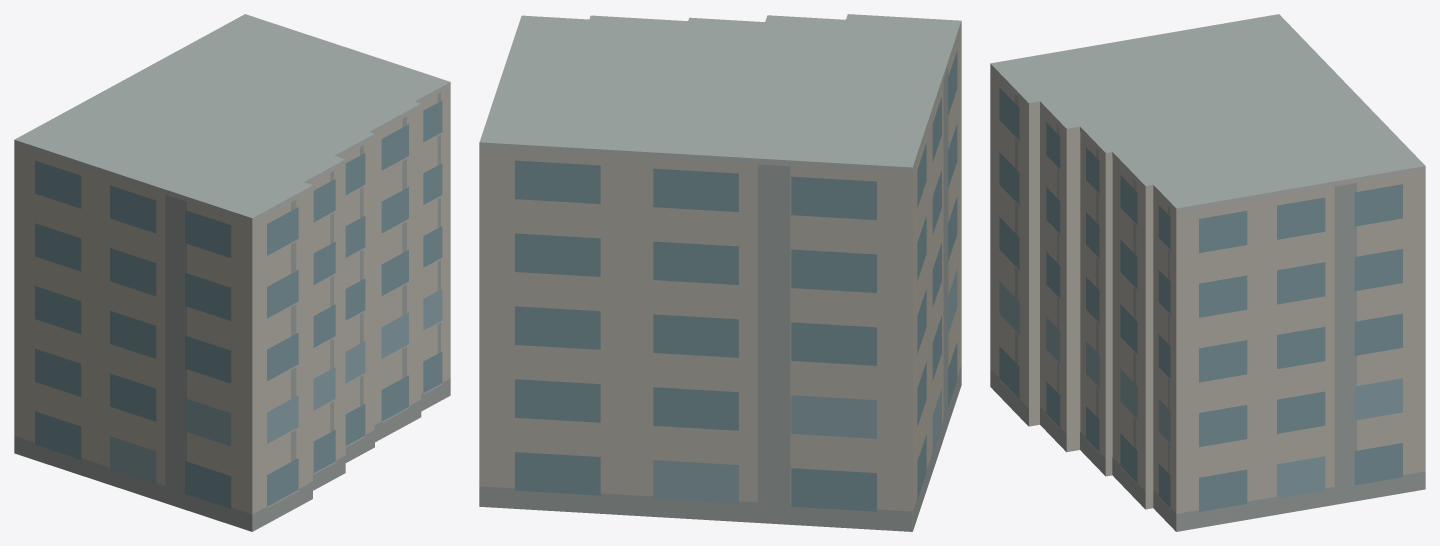
File: survey-upis-32626966.glb
The picture shows the model from 3 angles, left to right: view 1: azimuth 30°, elevation 25°; view 2: azimuth 150°, elevation 25°; view 3: azimuth 270°, elevation 25°; orthographic projection. The views are drawn at different scales.
Parts seen in each view (by area): view 1: survey-upis-32626966.tmp; view 2: survey-upis-32626966.tmp; view 3: survey-upis-32626966.tmp.
Boxes of the visible parts, bbox=[...] form: survey-upis-32626966.tmp: bbox=[14, 14, 450, 531]; survey-upis-32626966.tmp: bbox=[479, 14, 961, 531]; survey-upis-32626966.tmp: bbox=[990, 14, 1425, 531].
Size of the model in its own units: 18.97 by 14.7 by 17.94.
